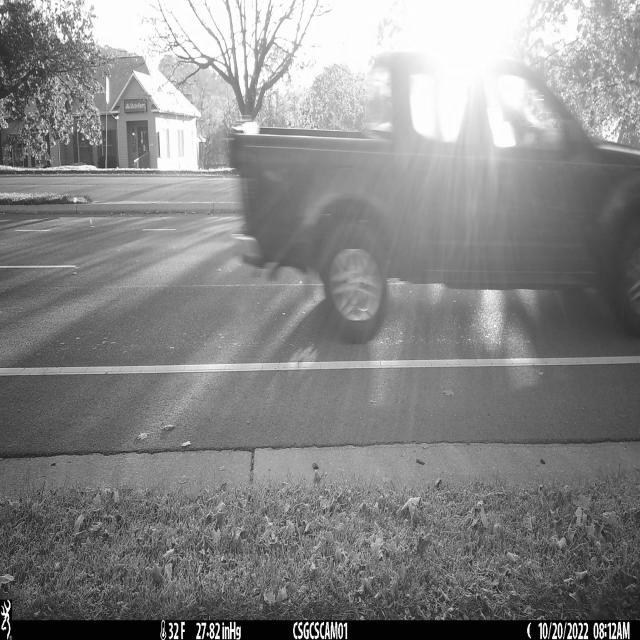Pickup: (230, 48, 640, 345)
